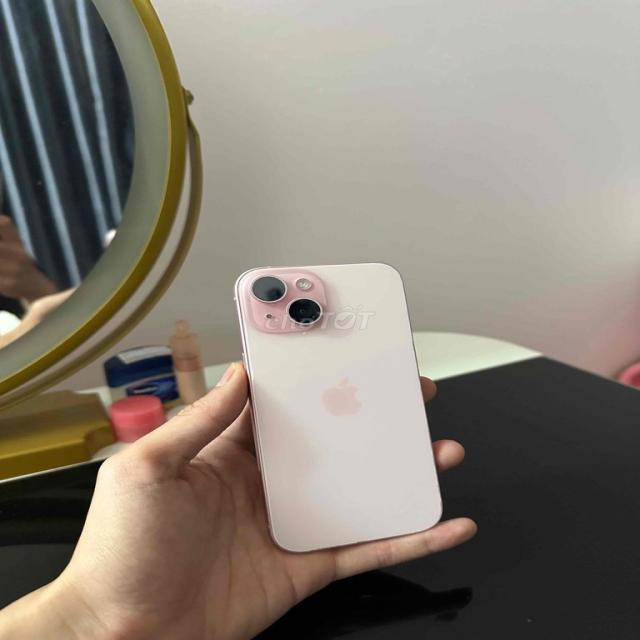gen_15: (228, 245, 460, 565)
